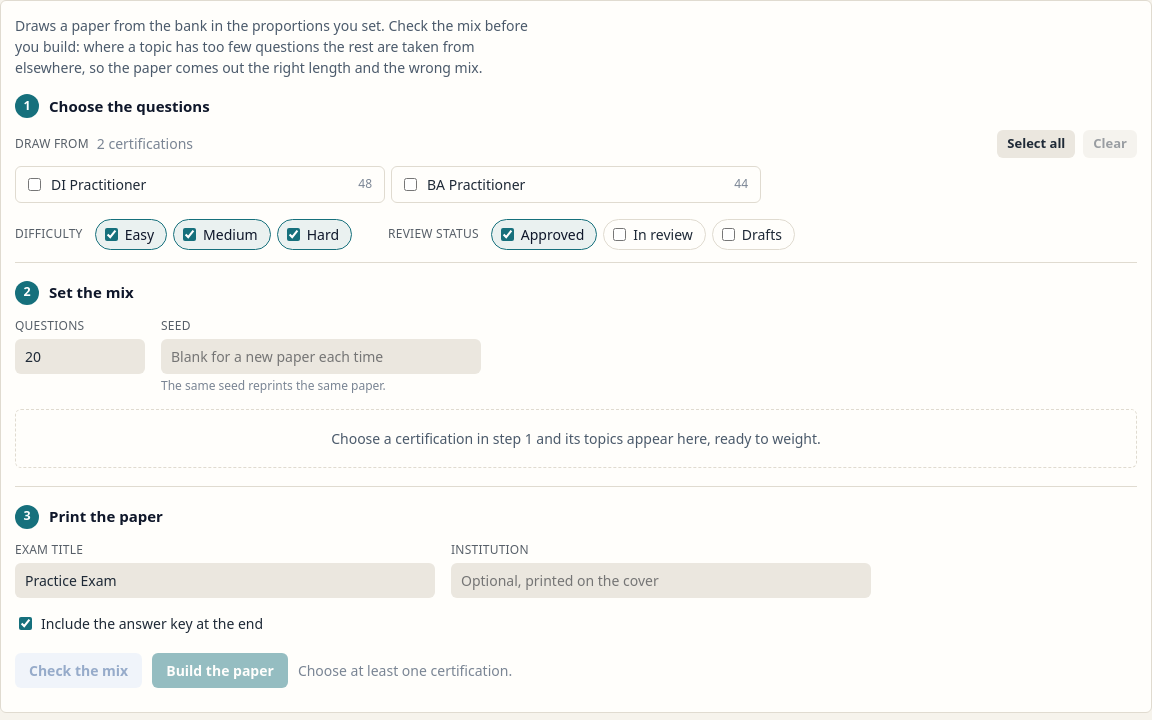
Test: setting up the weighting › says why the buttons are disabled
expect the text "Choose at least one certification." is shown: met, box top-left (298, 660), bottom-right (512, 680)
expect the button "Build the paper" is disabled: met, box top-left (152, 652), bottom-right (288, 688)
What coordinates should you click on to do the following:
click the checkbox labelled "DI Practitioner 48"
I would click on:
 (34, 184)
Its box is top-left (28, 178), bottom-right (41, 190).
(page scrolled)
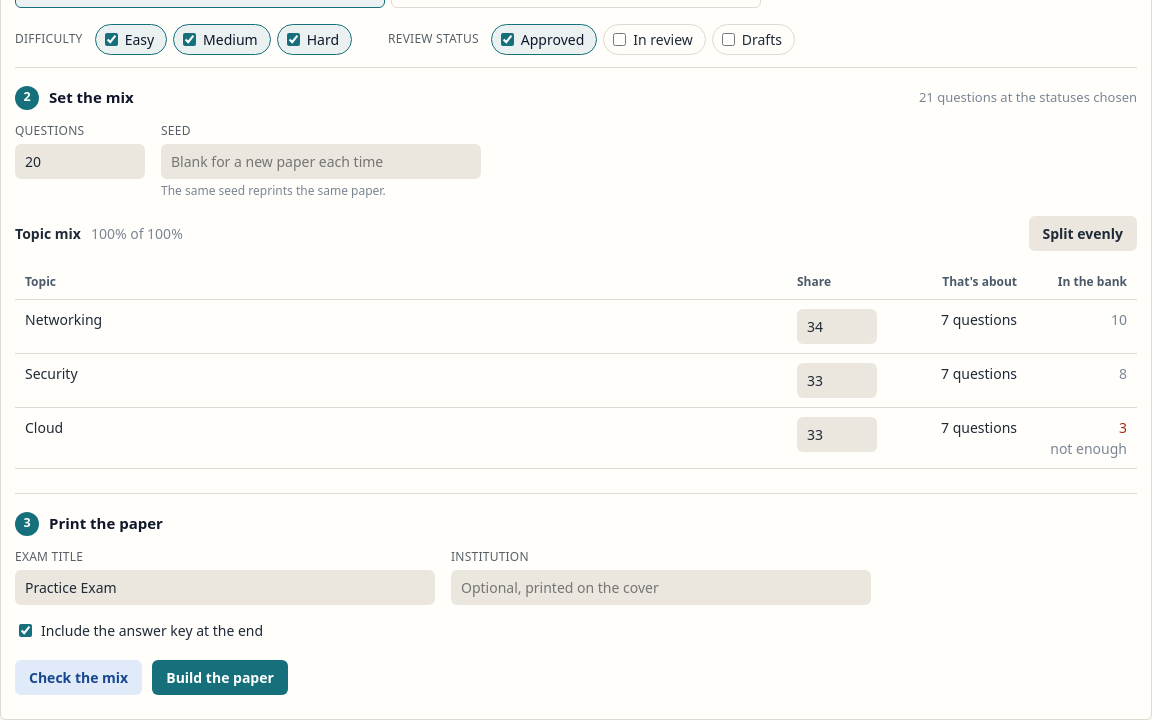
expect the text "21 questions at the statuses chosen" is shown: met, box top-left (919, 88), bottom-right (1137, 106)
expect the text "Choose at least one certification." is gone: met
expect the button "Build the paper" is enabled: met, box top-left (152, 660), bottom-right (288, 694)
